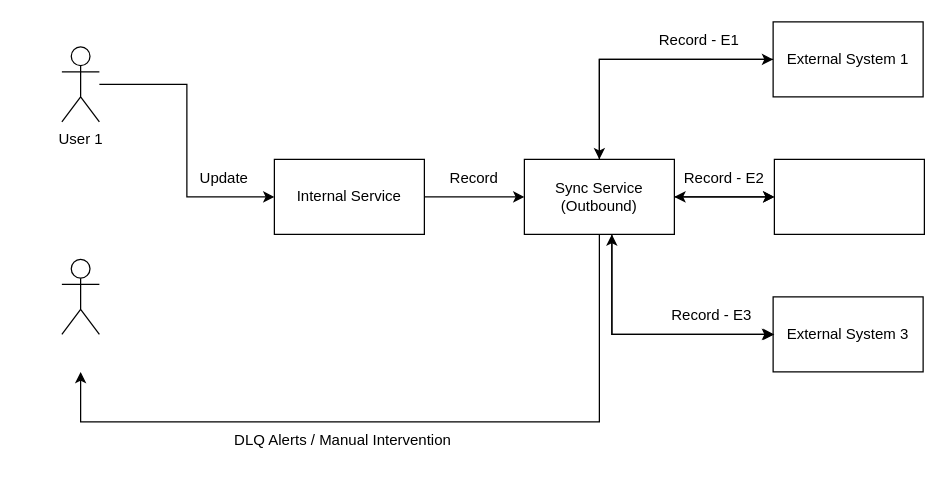
This 946x481 diagram has some shape labels left out. Here are the shapes that lost their labels. From the top down, the box of each, then its label:
(773, 158, 924, 234): External System 2
(61, 258, 99, 334): Ops User / Oncall
